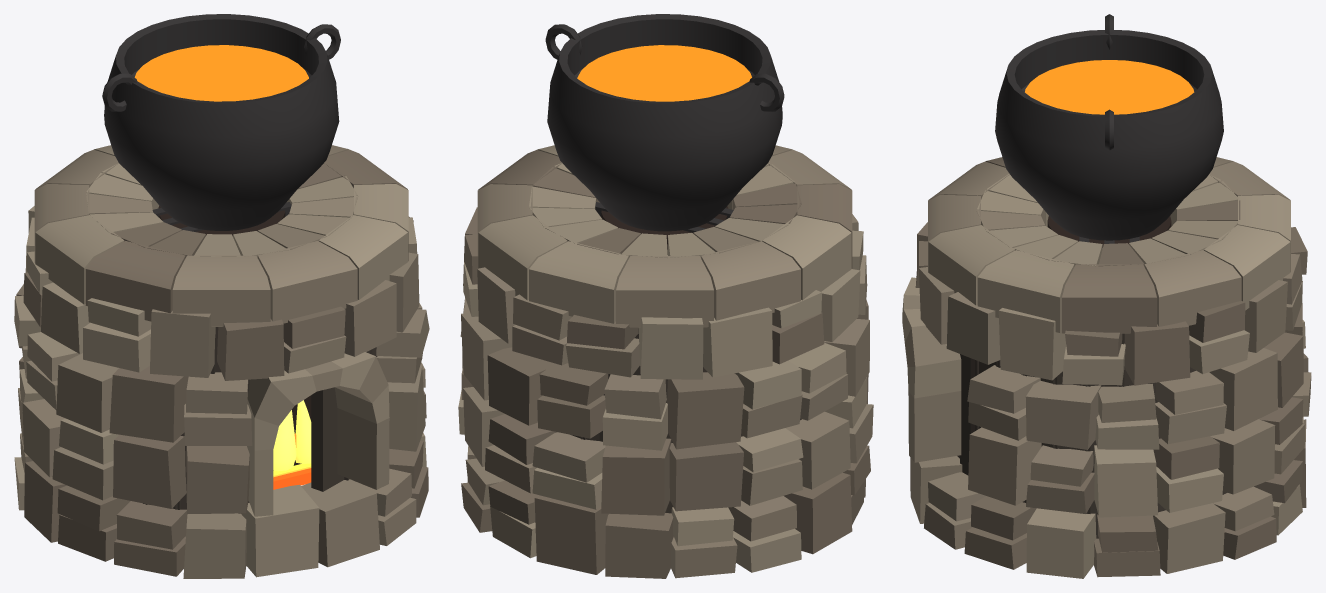
Rendered from bldg_oven.glb.
3 renders of one model, left to right at view 1: azimuth 30°, elevation 25°; view 2: azimuth 150°, elevation 25°; view 3: azimuth 270°, elevation 25°, orthographic. The views are drawn at different scales.
Parts seen in each view (by area): view 1: Base, Cauldron, FireOpening, Soup, Embers; view 2: Base, Cauldron, Soup, FireOpening; view 3: Base, Cauldron, FireOpening, Soup.
Boxes of the visible parts, left/top/right/bottom form: Base: left=14, top=145, right=429, bottom=578; Cauldron: left=102, top=14, right=340, bottom=230; FireOpening: left=158, top=206, right=389, bottom=516; Soup: left=134, top=45, right=308, bottom=101; Embers: left=273, top=400, right=311, bottom=477; Base: left=458, top=145, right=873, bottom=578; Cauldron: left=545, top=14, right=784, bottom=231; Soup: left=577, top=45, right=751, bottom=101; FireOpening: left=601, top=206, right=728, bottom=254; Base: left=910, top=157, right=1311, bottom=578; Cauldron: left=995, top=14, right=1223, bottom=240; FireOpening: left=902, top=216, right=1171, bottom=462; Soup: left=1025, top=60, right=1194, bottom=114.
Size of the model in its own units: 0.8831 by 1.04 by 0.8933.
